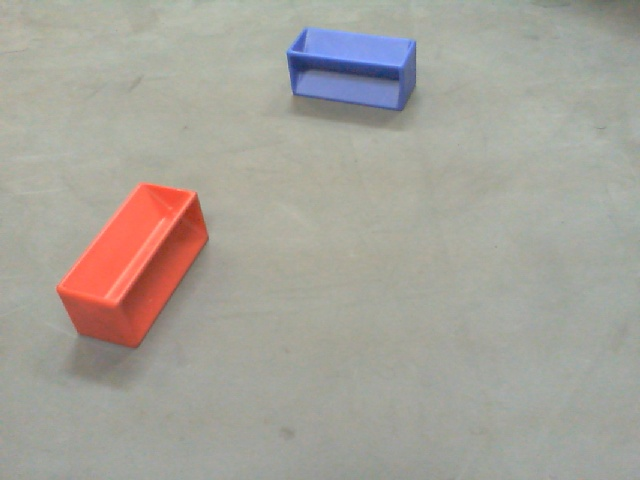BlueSample: (283, 24, 423, 122)
RedSample: (55, 180, 210, 361)
